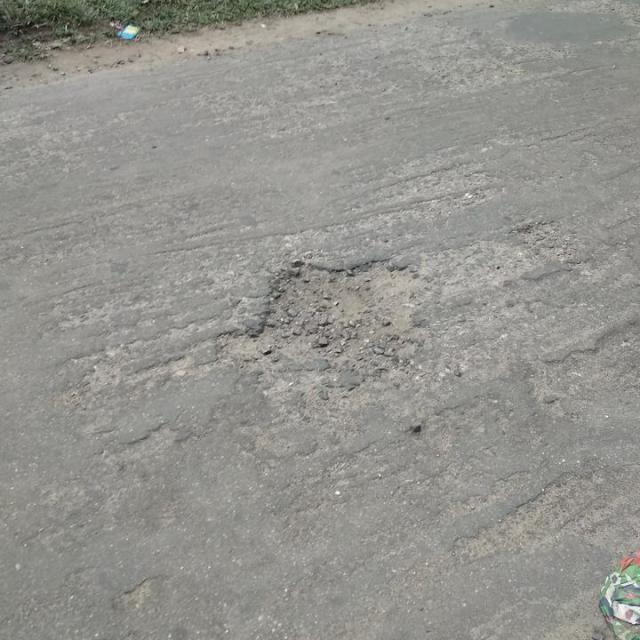Pothole: (221, 250, 434, 373)
